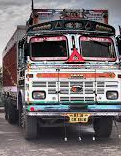truck: (1, 2, 121, 143)
